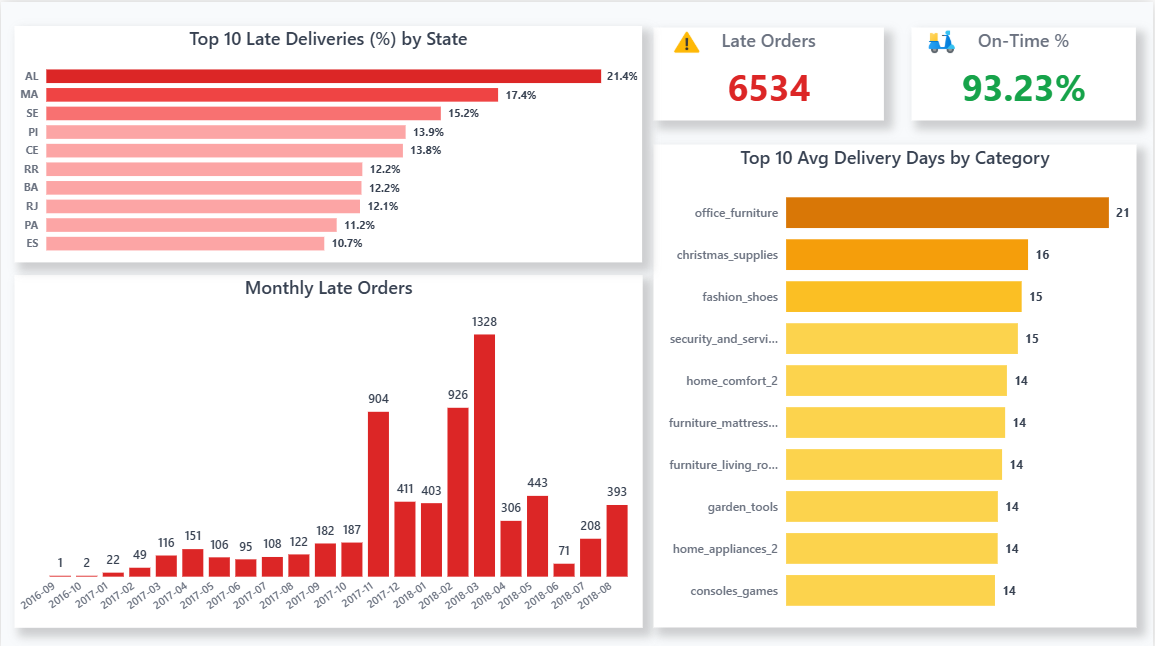

Layout of this report page (visuals, bound fields, positions):
{"tool":"powerbi","page":{"name":"Delivery & Logistics","canvas":[1280,720],"ordinal":4},"visuals":[{"type":"card","title":"Late Orders","fields":{"Values":["public bi_fact_sales.Late Orders"]},"box":[725.4,29.1,255.8,103.6],"z":0},{"type":"card","title":"On-Time %","fields":{"Values":["public bi_fact_sales.On-time%"]},"box":[1012,29.1,249.4,103.6],"z":1000},{"type":"columnChart","title":"Monthly Late Orders","fields":{"Y":["public bi_fact_sales.Late Orders"],"Category":["DimDate.Year-Month"]},"box":[14.6,302.8,697.9,391.9],"z":2000},{"type":"barChart","title":"Top 10 Avg Delivery Days by Category","fields":{"Y":["public bi_fact_sales.Avg Delivery Days"],"Category":["public bi_fact_sales.category"]},"box":[725.7,158.7,536.7,536.7],"z":3000},{"type":"barChart","title":"Top 10 Late Deliveries (%) by State","fields":{"Y":["public bi_fact_sales.Late%"],"Category":["public bi_fact_sales.customer_state"]},"box":[15.1,26.5,697.3,262.7],"z":4000},{"type":"image","box":[740,29.1,43.7,32.4],"z":5000},{"type":"image","box":[1023.4,29.1,43.7,32.4],"z":6000}]}

Visuals, with their boxes in screenshot pixels (x1, y1, x2, y2), scaled from the page's 1280x720 canvas onto the 1155x646 screenshot:
"Late Orders" card: box=[655, 26, 885, 119]
"On-Time %" card: box=[913, 26, 1138, 119]
"Monthly Late Orders" columnChart: box=[13, 272, 643, 623]
"Top 10 Avg Delivery Days by Category" barChart: box=[655, 142, 1139, 624]
"Top 10 Late Deliveries (%) by State" barChart: box=[14, 24, 643, 259]
image: box=[668, 26, 707, 55]
image: box=[923, 26, 963, 55]
